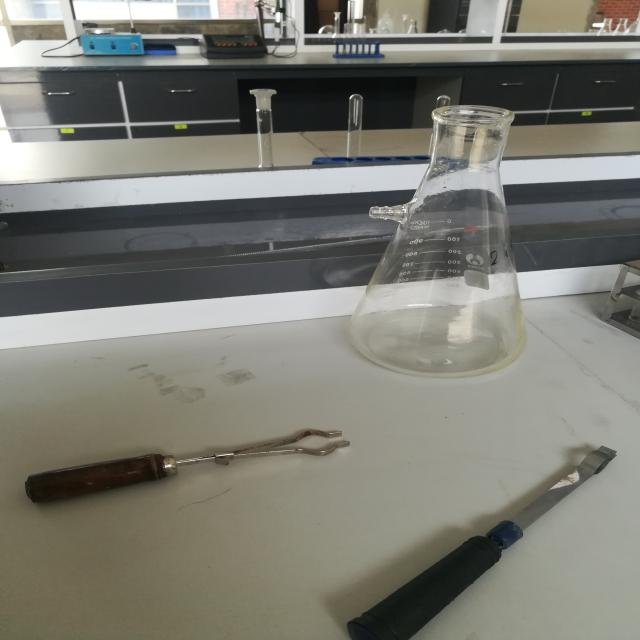Conical_Flask: (334, 68, 571, 404)
TestTube_Holder: (335, 437, 635, 640), (9, 413, 356, 529)
